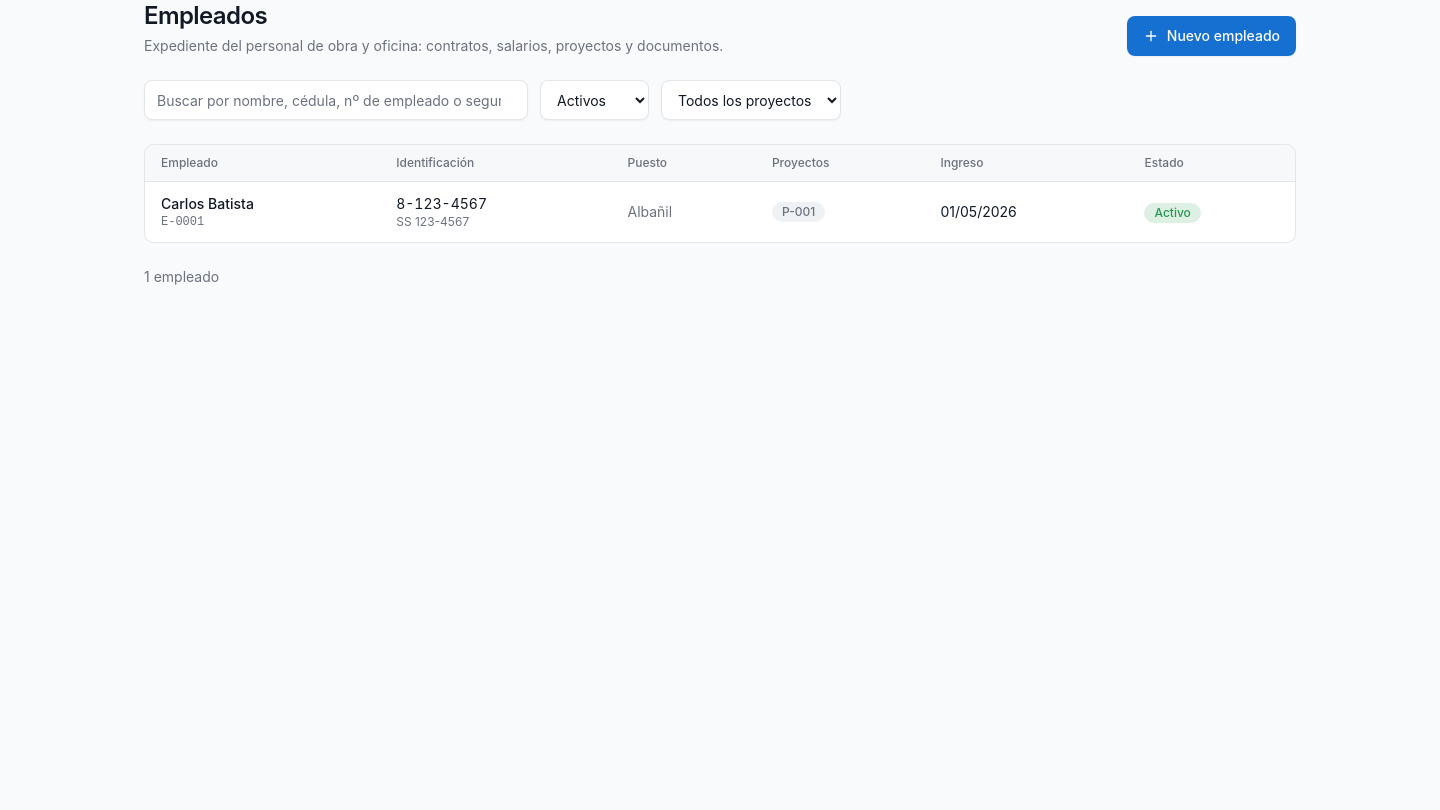
Test: EmployeesPage › valida el formato de la cédula antes de enviar
This screenshot has width=1440, height=810.
Click the button "Nuevo empleado" at (1211, 36), box [1127,16,1296,56]
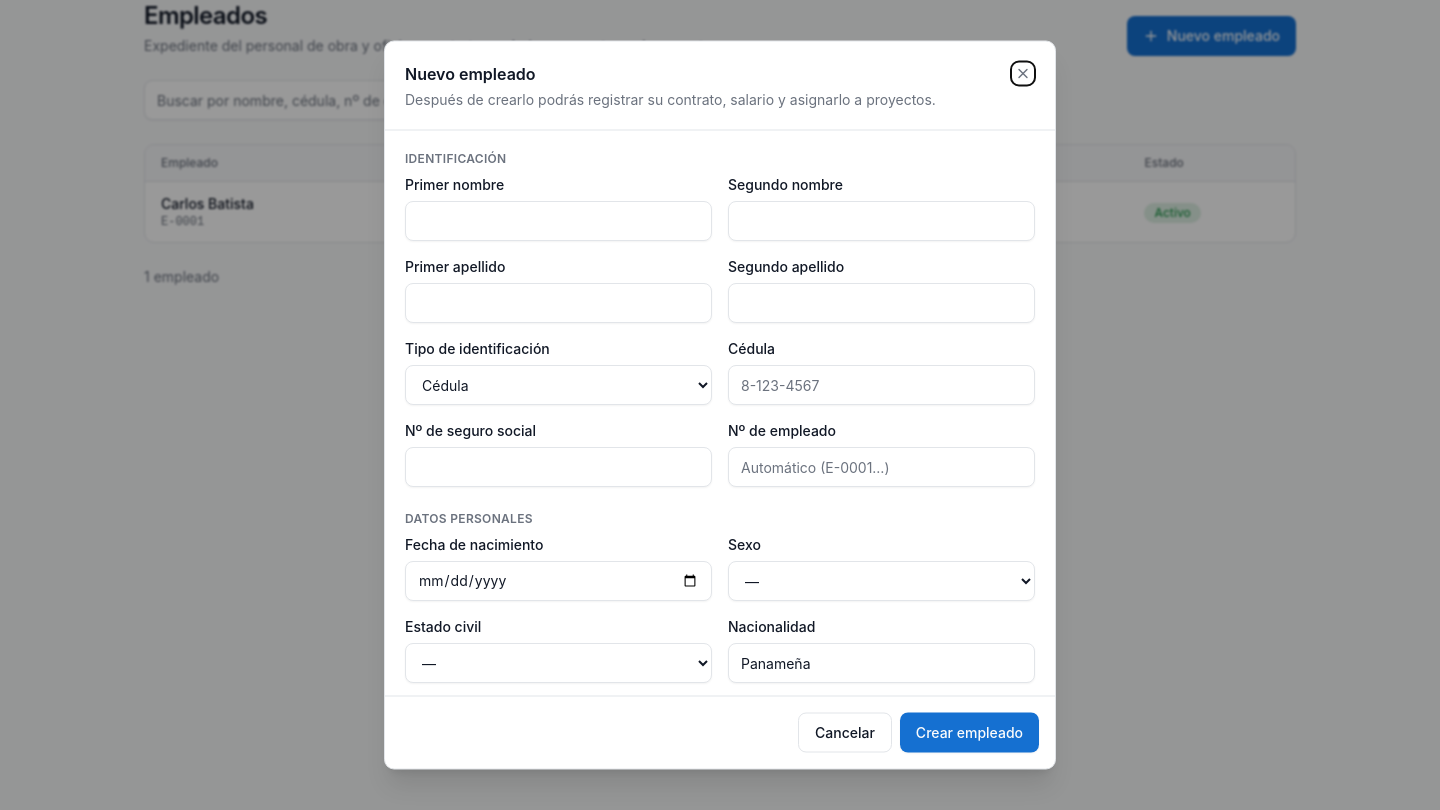
Type "Ana" into the field labelled "Primer nombre" at (558, 220), box [405,200,712,240]
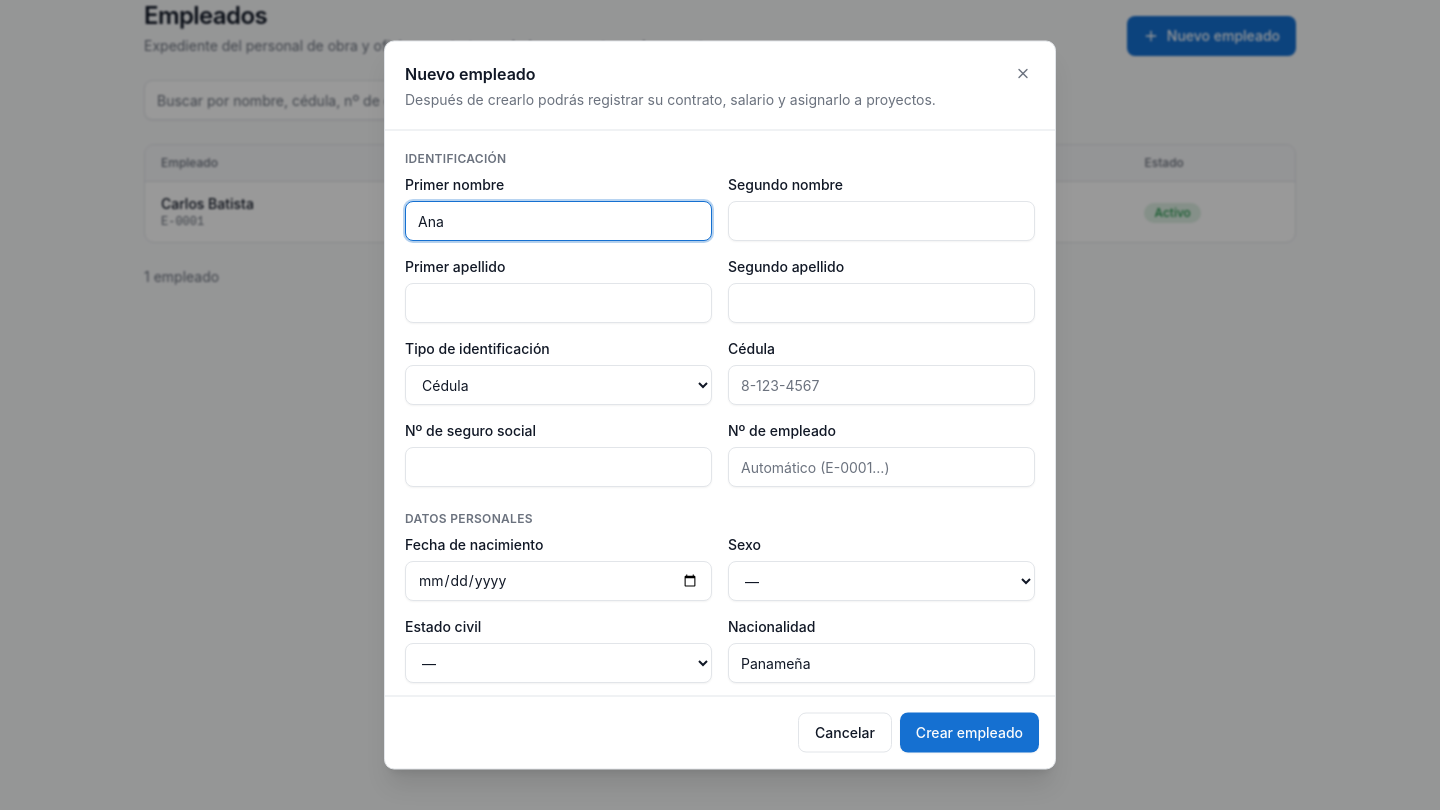
Type "Ruiz" into the field labelled "Primer apellido" at (558, 302), box [405,282,712,322]
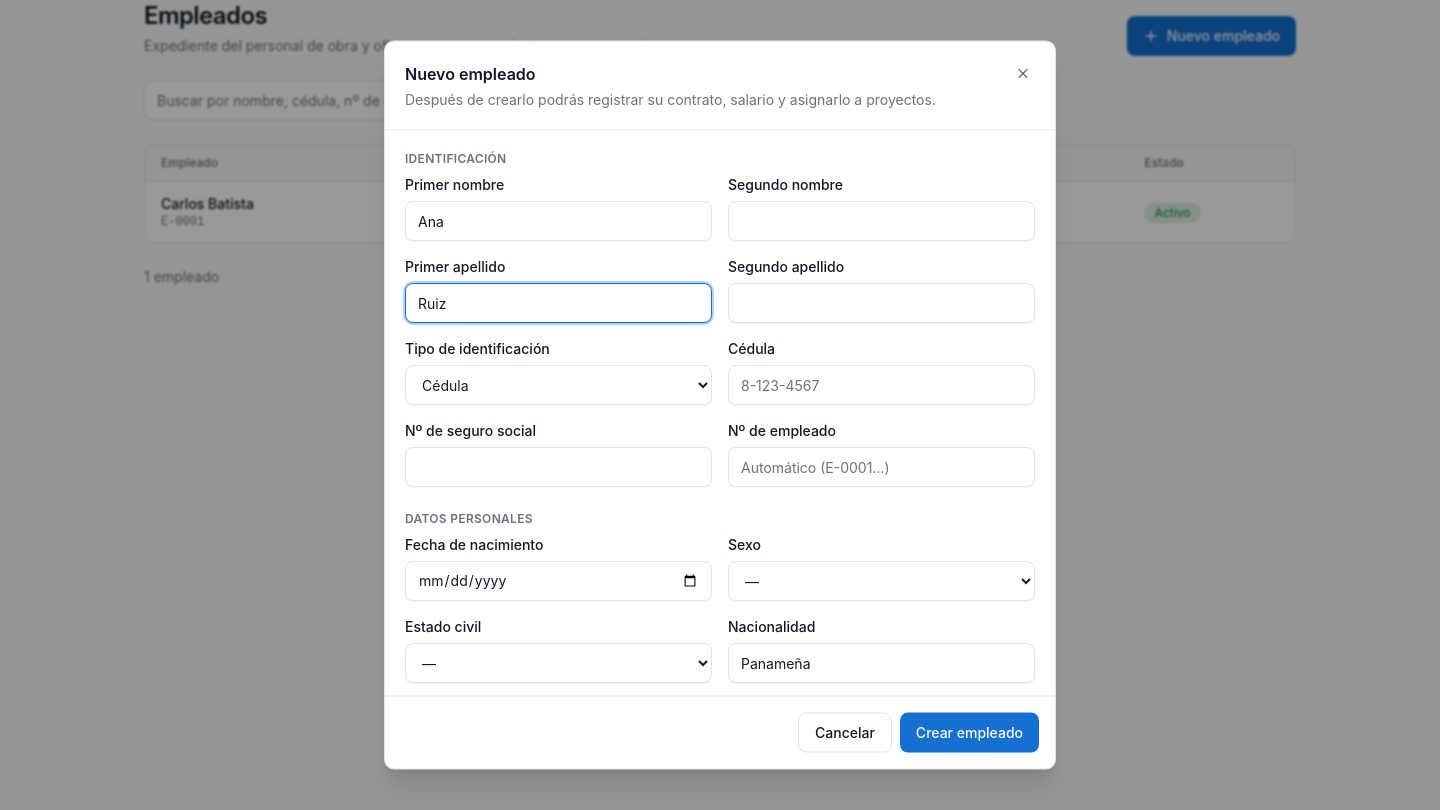
Type "8123456" into the field labelled "Cédula" at (882, 384), box [728,364,1035,404]
(page scrolled)
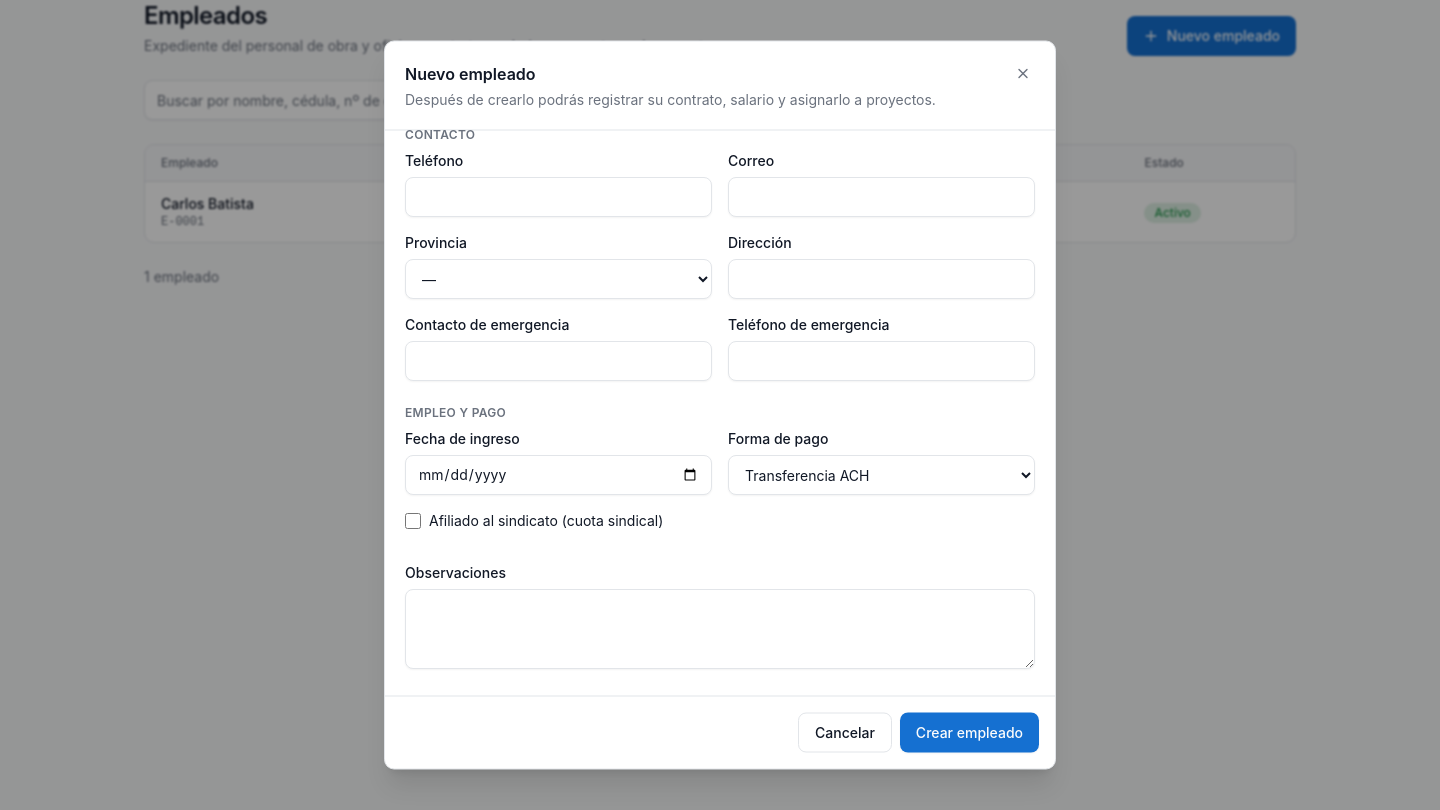
Type "2026-02-01" into the date field labelled "Fecha de ingreso" at (558, 476), box [405,456,712,496]
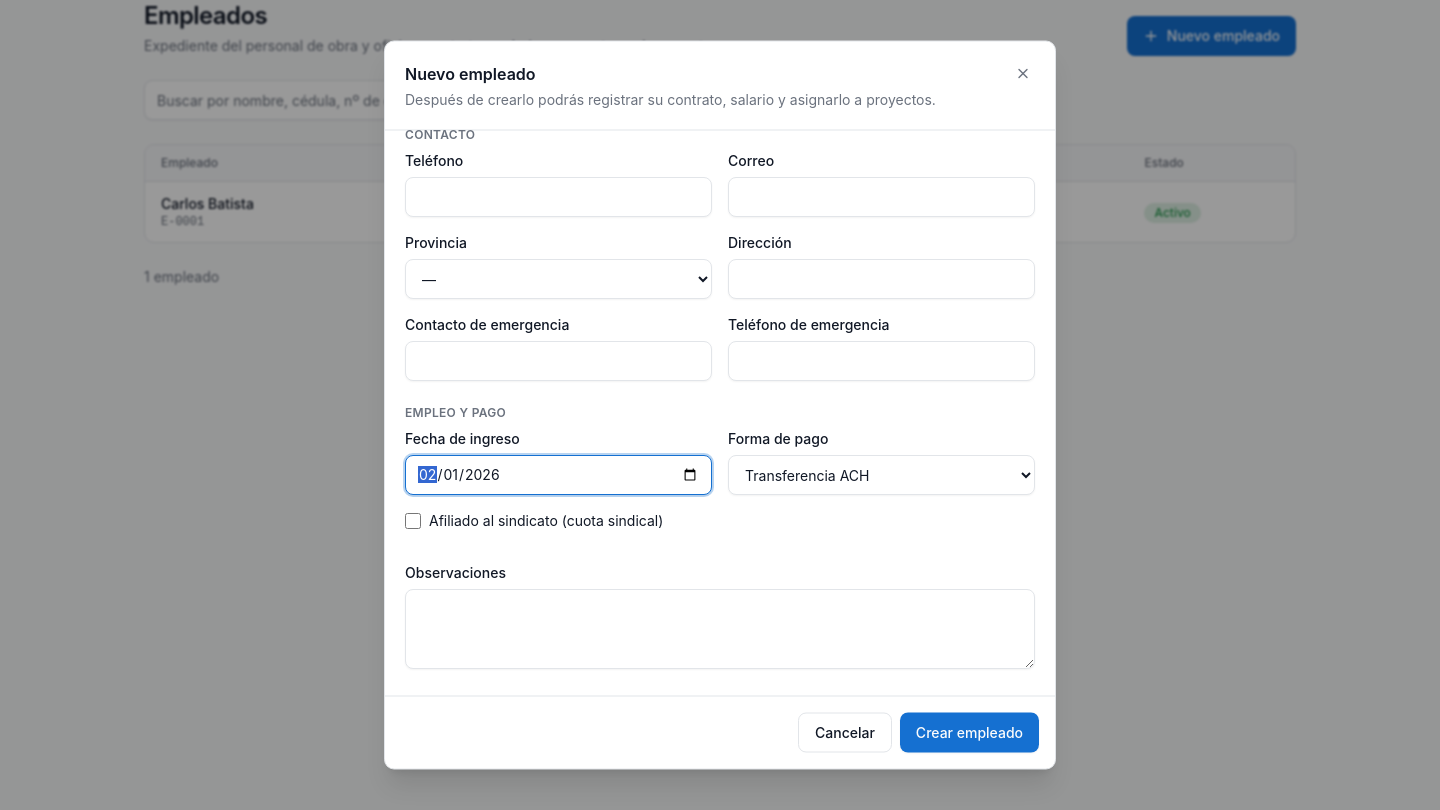
Click the button "Crear empleado" at (969, 732), box [900,712,1039,752]
(page scrolled)
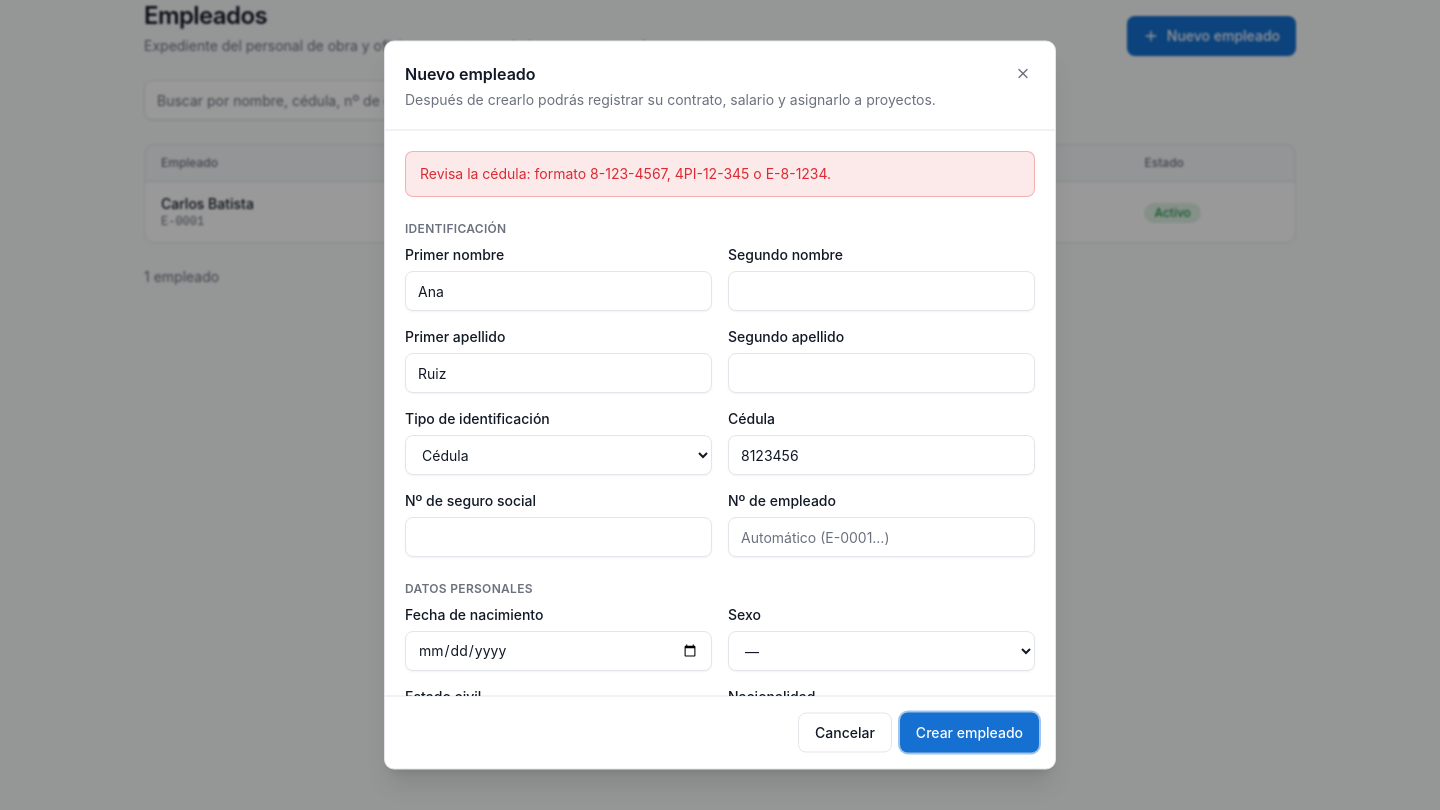
Now the text "Revisa la cédula: formato 8-123-4567, 4PI-12-345 o E-8-1234." is shown, box [405,150,1035,196]
